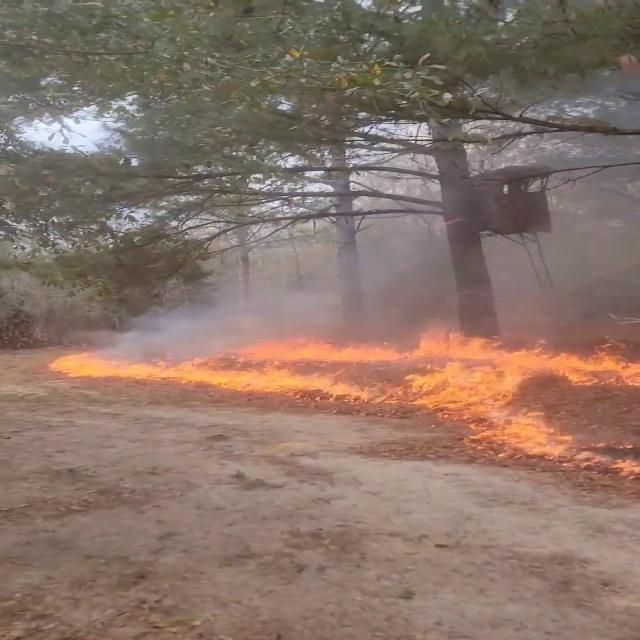Fire: (33, 325, 636, 393), (442, 388, 640, 474)
Smoke: (125, 200, 639, 346)
